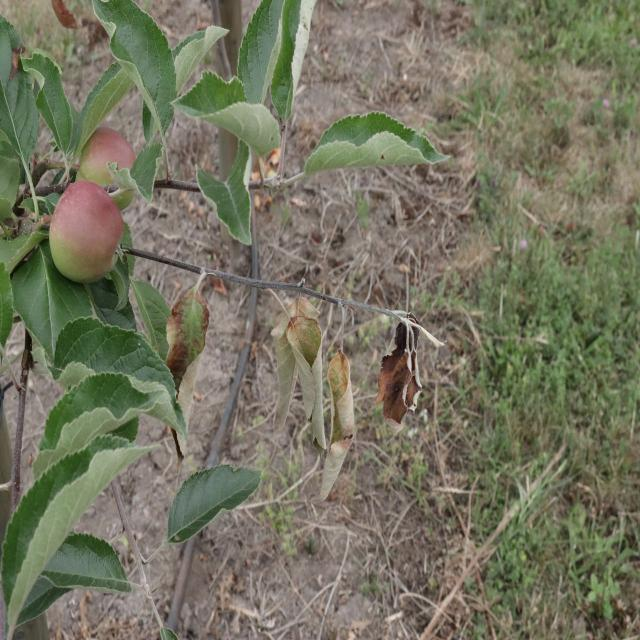-FireBlight-: (262, 294, 331, 442), (158, 270, 216, 410), (326, 343, 352, 499), (388, 311, 418, 421)
